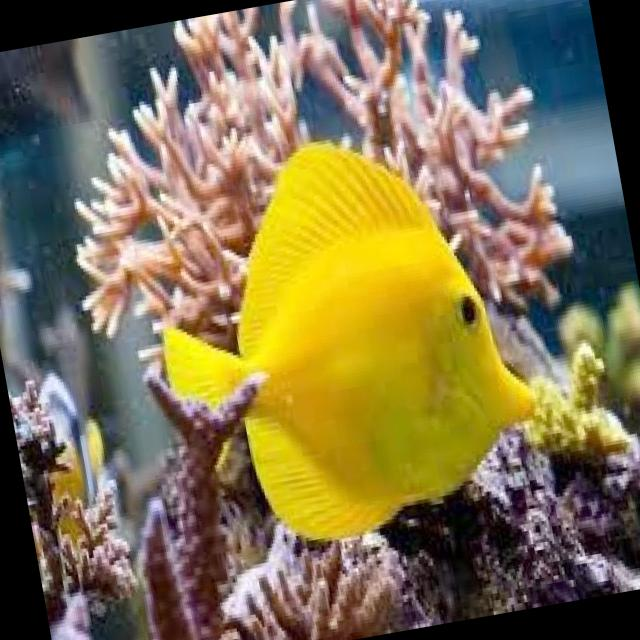YellowTang: (120, 98, 561, 561)
